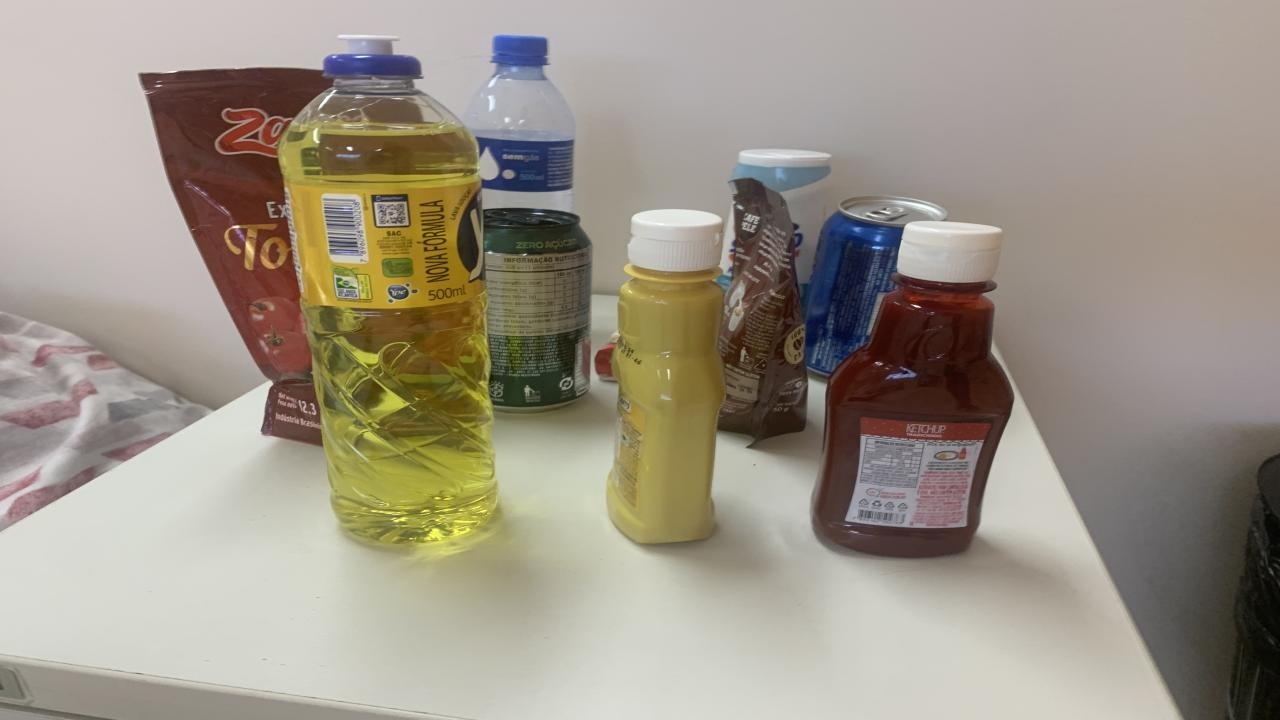Cleaner-Cleanup_Items: (732, 150, 830, 304), (720, 212, 735, 287)
Coffee-Pantry_Items: (718, 178, 808, 442)
Detergent-Cleanup_Items: (280, 36, 498, 544)
Guarana_Can-Drinks: (485, 208, 592, 412)
Ketchup-Pantry_Items: (812, 219, 1012, 557)
Mustard-Pantry_Items: (608, 210, 725, 544)
Soap-Cleanup_Items: (595, 332, 620, 381)
Tomato_Sauce-Pantry_Items: (140, 68, 330, 444)
Tonic-Drinks: (805, 195, 948, 375)
Water_Bottle-Drinks: (462, 36, 575, 212)
